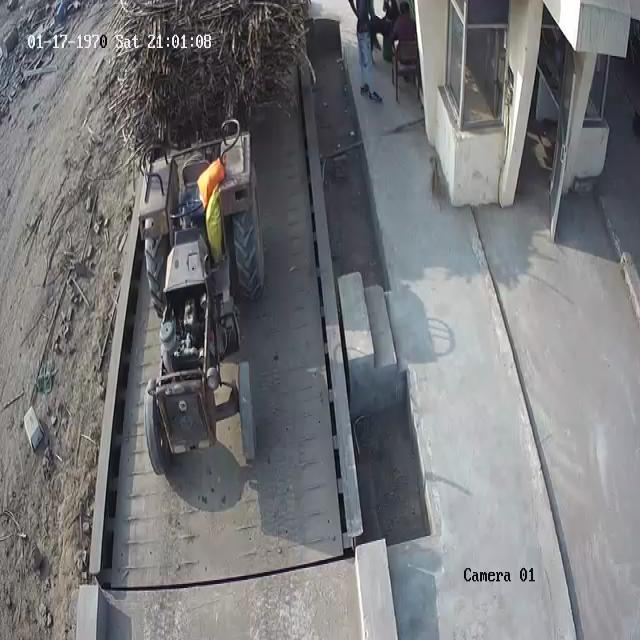Tratores - v5 YOLO V8L 2024-11-13: (144, 140, 258, 479)
